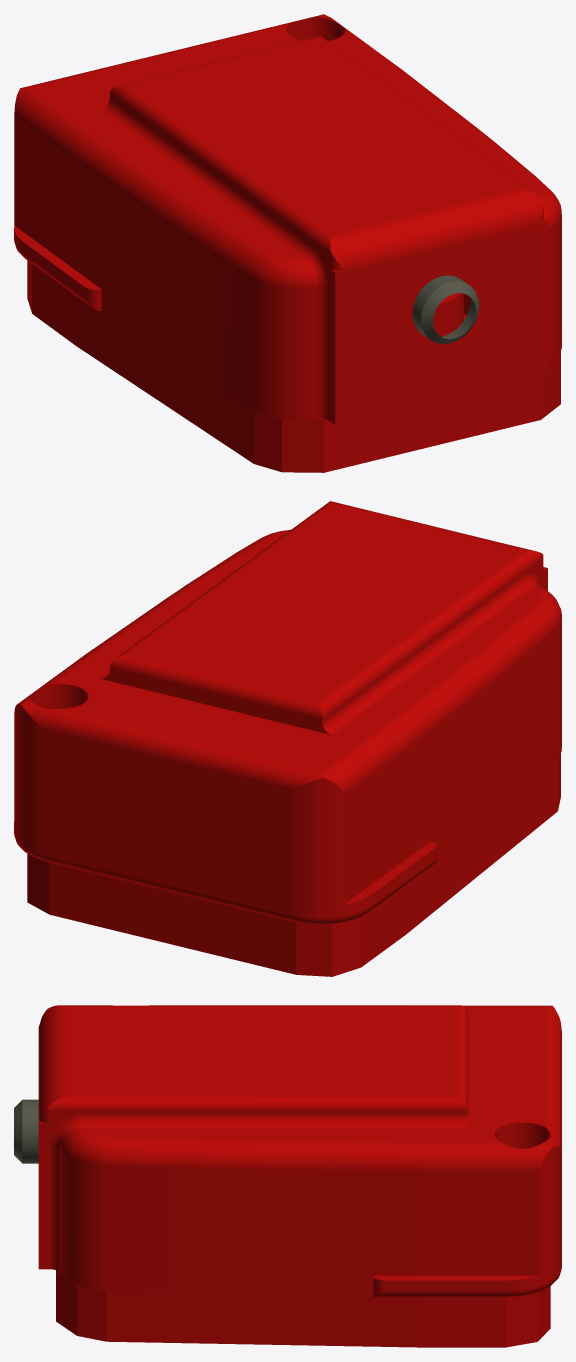
Rendered from housing_Classic_body_training.dae.
3 views of the same model, one above another, from view 1: azimuth 30°, elevation 25°; view 2: azimuth 150°, elevation 25°; view 3: azimuth 270°, elevation 25° (orthographic). The views are drawn at different scales.
Visible parts, largest first — view 1: Actor0; view 2: Actor0; view 3: Actor0.
Boxes of the visible parts, bbox=[...] form: Actor0: bbox=[14, 14, 561, 472]; Actor0: bbox=[14, 501, 561, 976]; Actor0: bbox=[14, 1005, 561, 1347].
Size of the model in its own units: 0.0682 by 0.0431 by 0.0972.
